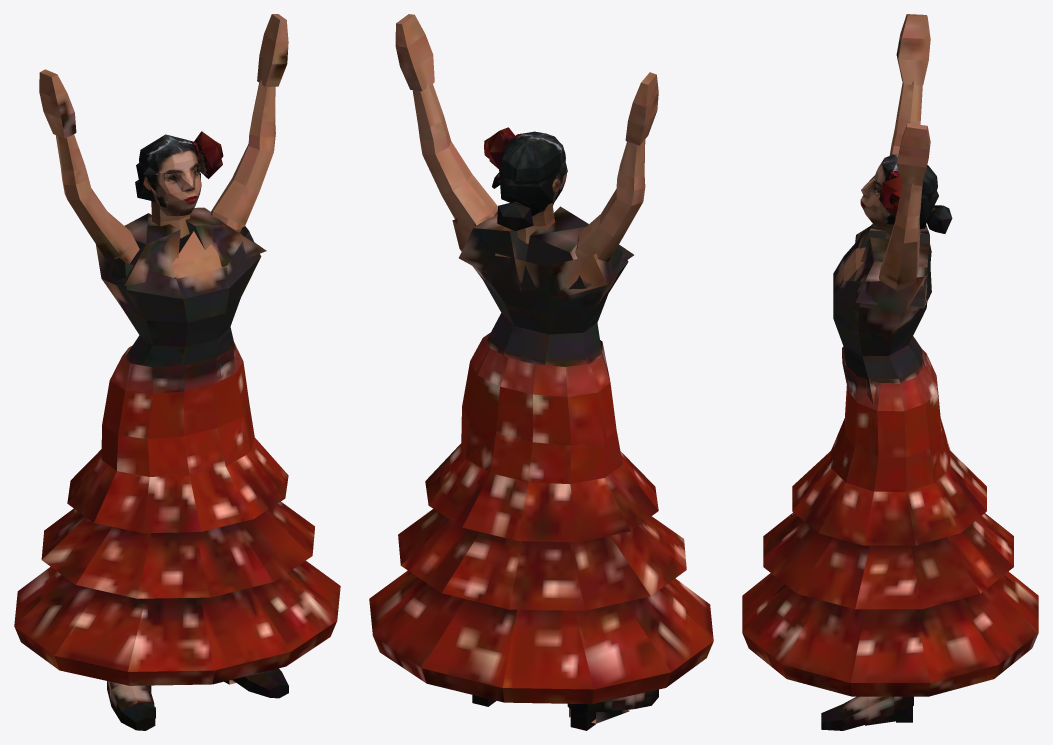
Rendered from dancer.glb.
The picture shows the model from 3 angles, left to right: view 1: azimuth 30°, elevation 25°; view 2: azimuth 150°, elevation 25°; view 3: azimuth 270°, elevation 25°; orthographic projection. The views are drawn at different scales.
Parts seen in each view (by area): view 1: gear: ruffled skirt still, body still, gear: sleeveless top still, gear: heeled dance shoes still, gear: hair flower still; view 2: gear: ruffled skirt still, body still, gear: sleeveless top still, gear: heeled dance shoes still, gear: hair flower still; view 3: gear: ruffled skirt still, body still, gear: sleeveless top still, gear: heeled dance shoes still, gear: hair flower still.
Part boxes in pixels (x1,y1,x2,y2): gear: ruffled skirt still: [14, 342, 340, 685]; body still: [39, 14, 288, 718]; gear: sleeveless top still: [96, 207, 266, 389]; gear: heeled dance shoes still: [107, 668, 288, 730]; gear: hair flower still: [194, 131, 223, 179]; gear: ruffled skirt still: [369, 332, 713, 704]; body still: [395, 14, 658, 723]; gear: sleeveless top still: [452, 206, 633, 366]; gear: heeled dance shoes still: [472, 689, 658, 730]; gear: hair flower still: [484, 127, 514, 188]; gear: ruffled skirt still: [742, 347, 1038, 696]; body still: [843, 14, 952, 725]; gear: sleeveless top still: [833, 224, 931, 404]; gear: heeled dance shoes still: [821, 696, 913, 730]; gear: hair flower still: [879, 176, 902, 216].
Size of the model in its own units: 0.896 by 1.9 by 0.8159.
2 materials, 2 textured.
